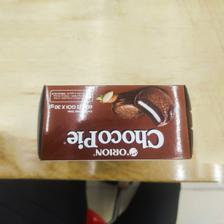Chocopie_cacao: (35, 83, 196, 162)
